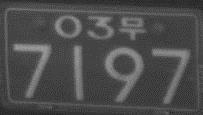0: (53, 13, 82, 39)
1: (62, 44, 94, 101)
3: (86, 15, 114, 40)
7: (150, 46, 191, 104), (12, 42, 52, 98)
9: (103, 45, 144, 102)
무: (118, 15, 146, 41)
